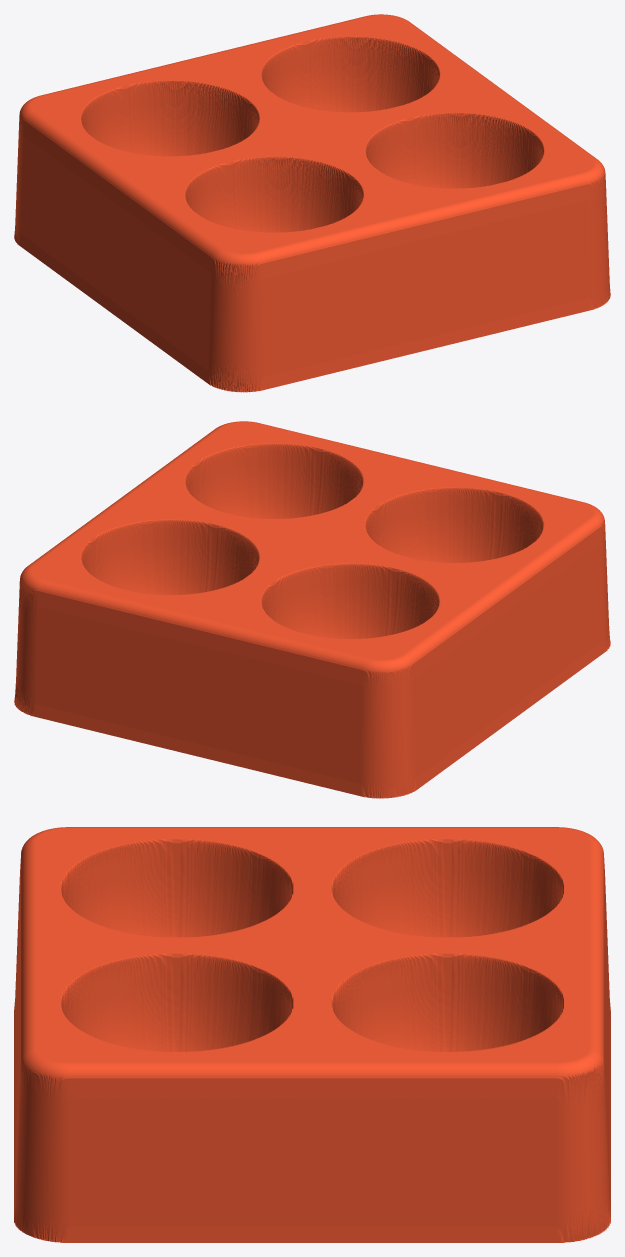
File: mold.glb
3 renders of one model, top to bottom at view 1: azimuth 30°, elevation 25°; view 2: azimuth 150°, elevation 25°; view 3: azimuth 270°, elevation 25°, orthographic. The views are drawn at different scales.
Parts seen in each view (by area): view 1: geometry_0; view 2: geometry_0; view 3: geometry_0.
Part boxes in pixels (x1,y1,x2,y2): geometry_0: (14,14,610,392); geometry_0: (14,421,610,798); geometry_0: (14,827,610,1242).
Bounding box in the file's own units: 0.0992 × 0.0314 × 0.0992.
